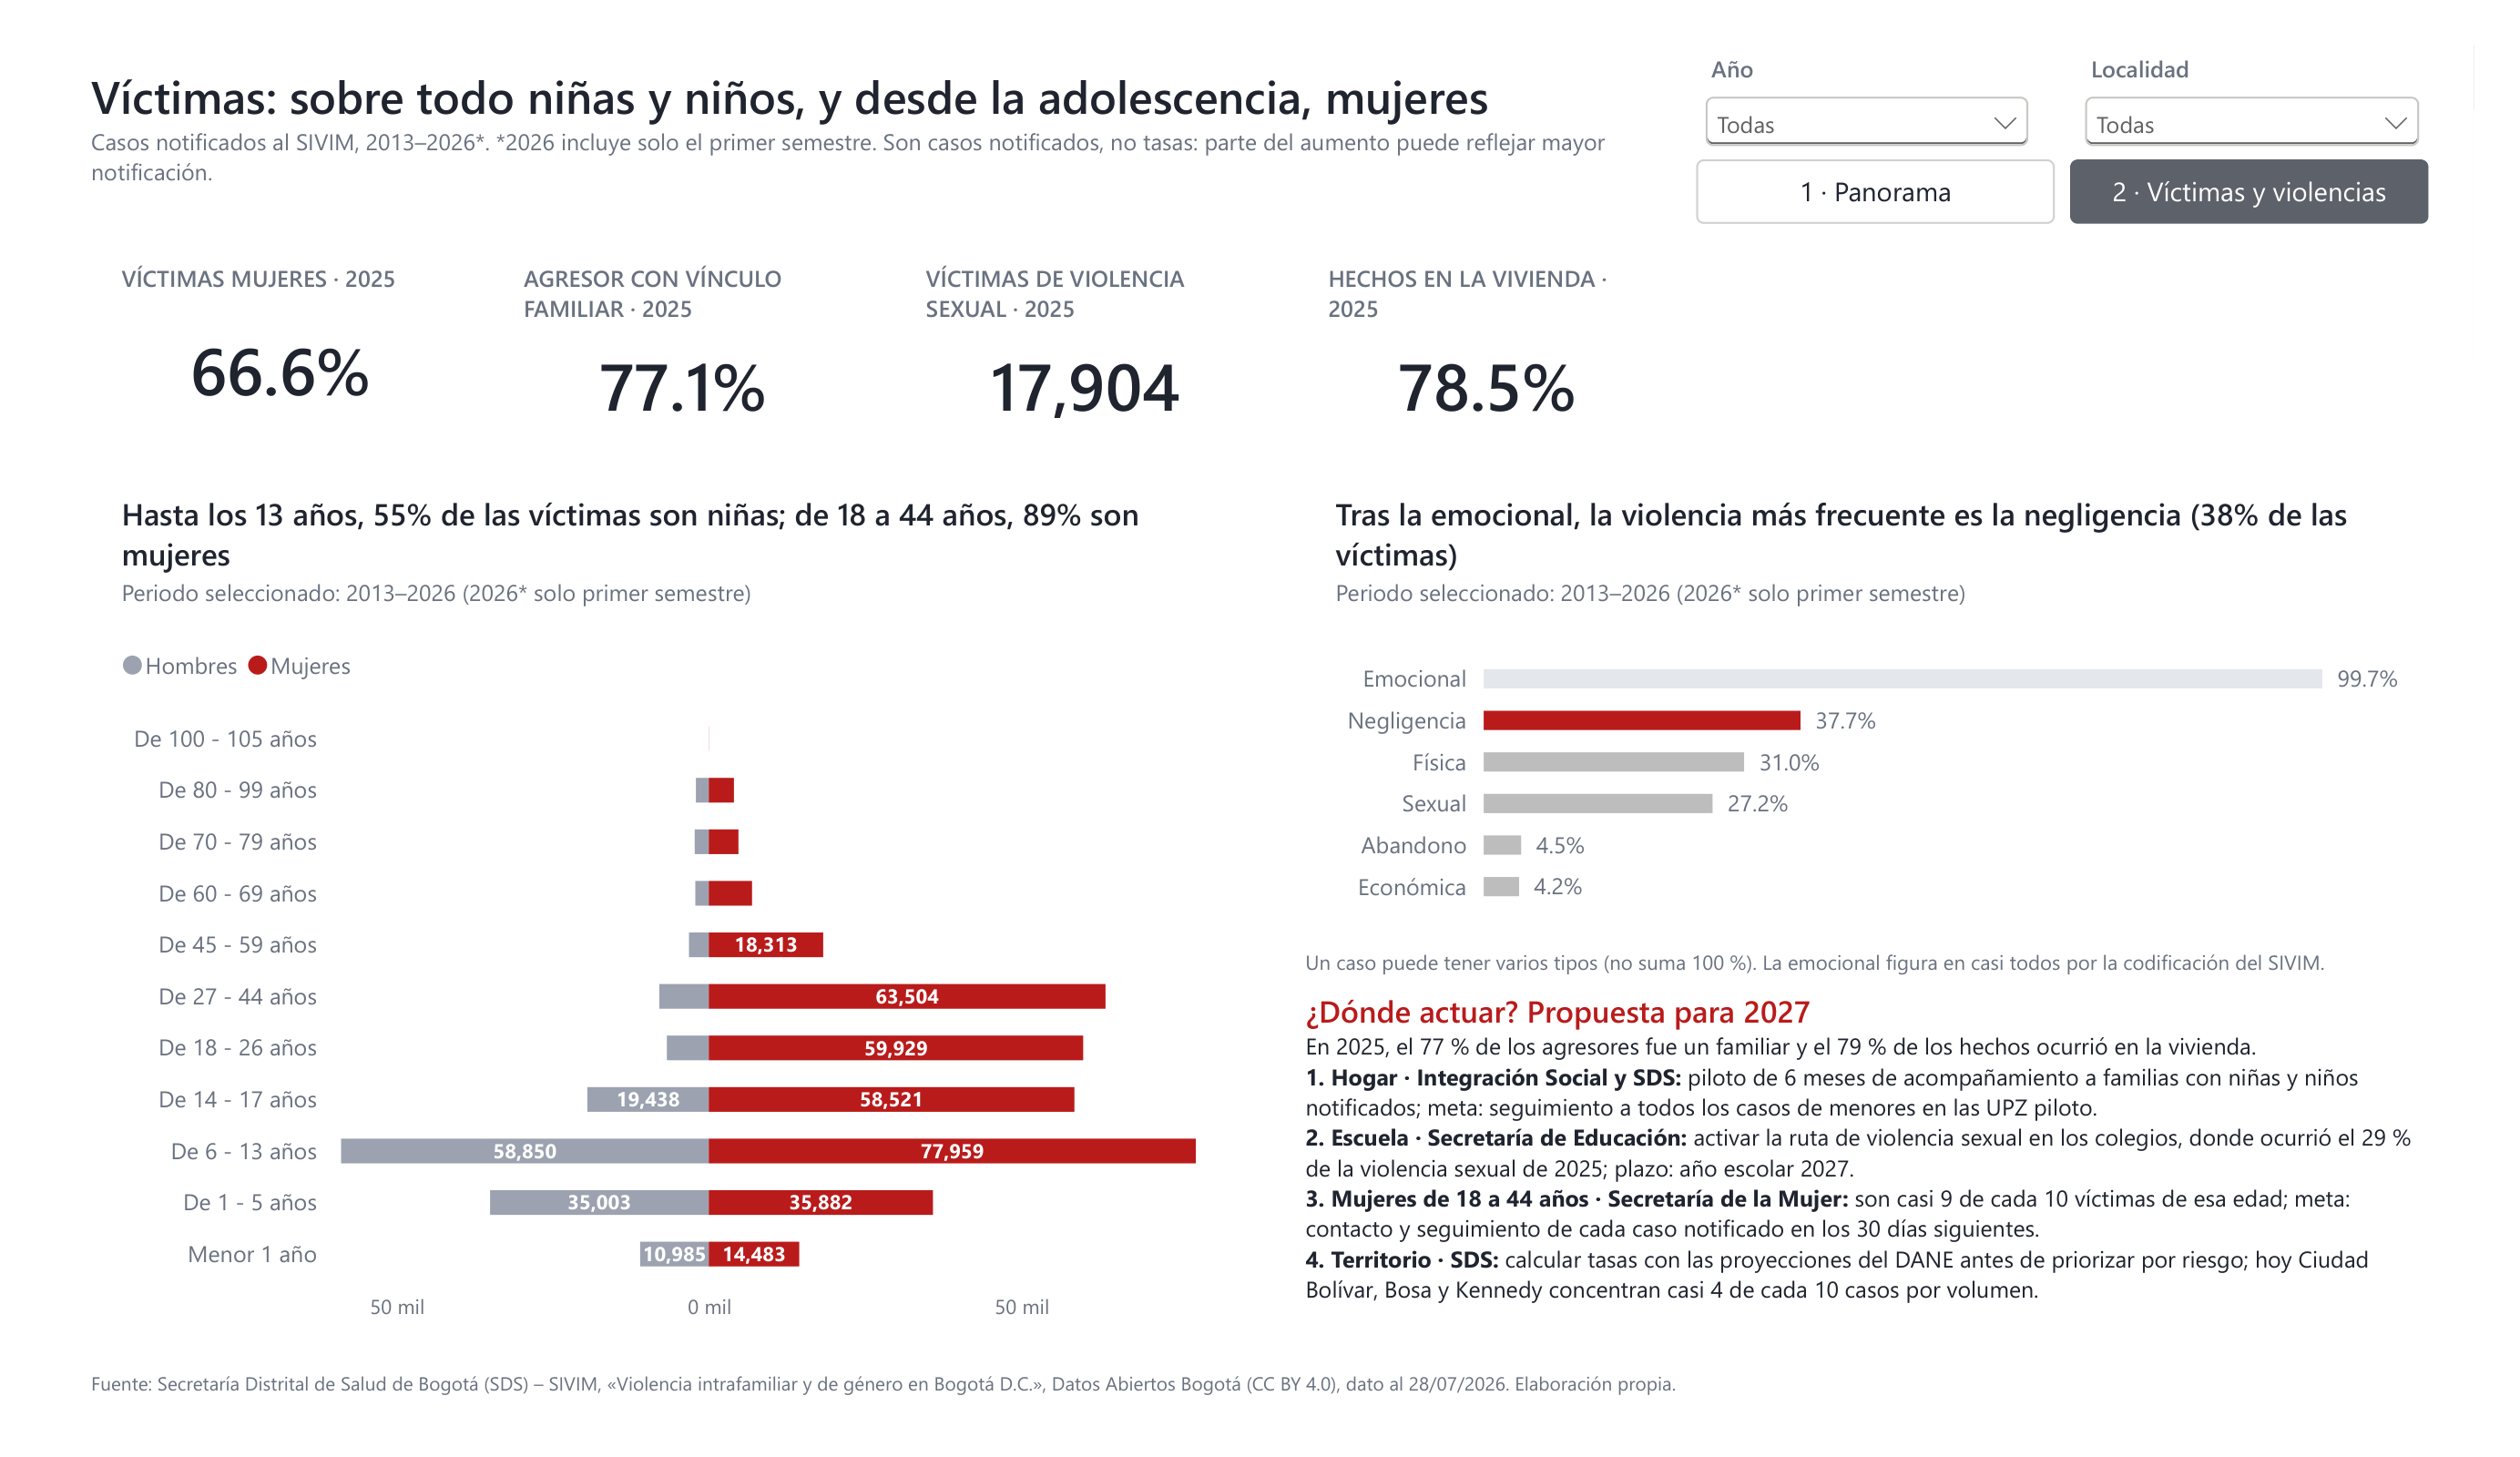

What the dashboard file says about the page in this screenshot:
{"tool":"powerbi","page":{"name":"2 · Víctimas y violencias","canvas":[1280,720],"ordinal":1},"visuals":[{"type":"textbox","box":[24,10,830,84],"z":0},{"type":"slicer","fields":{"Values":["Dim_Anio.Año_Etiqueta"]},"box":[870,4,180,52],"z":1},{"type":"slicer","fields":{"Values":["Dim_Geografia.Localidad"]},"box":[1070,4,186,52],"z":2},{"type":"pageNavigator","box":[870,60,386,34],"z":3},{"type":"card","fields":{"Values":["_Medidas.% Mujeres Año Ref"]},"box":[24,100,200,112],"z":10},{"type":"card","fields":{"Values":["_Medidas.% Agresor Familiar Año Ref"]},"box":[236,100,200,112],"z":11},{"type":"card","fields":{"Values":["_Medidas.Violencia Sexual Año Ref"]},"box":[448,100,200,112],"z":12},{"type":"card","fields":{"Values":["_Medidas.% Vivienda Año Ref"]},"box":[660,100,200,112],"z":13},{"type":"barChart","fields":{"Category":["Dim_Edad.Grupo_Edad"],"Y":["_Medidas.Casos Hombres Pirámide","_Medidas.Casos Mujeres"]},"box":[24,222,620,472],"z":20},{"type":"clusteredBarChart","fields":{"Category":["Dim_TipoViolencia.Tipo_Violencia"],"Y":["_Medidas.% de Casos con este Tipo"]},"box":[664,222,592,252],"z":21},{"type":"textbox","box":[664,474,592,22],"z":22},{"type":"textbox","box":[664,498,592,196],"z":23},{"type":"textbox","box":[24,696,1232,22],"z":90}]}

Visuals, with their boxes on the page's 1280x720 design canvas (x1, y1, x2, y2). These are canvas units, not pixel positions in the 2520x1457 screenshot, which may show the page scaled, cropped or inside an application window:
textbox: <box>24,10,854,94</box>
slicer - Dim_Anio.Año_Etiqueta: <box>870,4,1050,56</box>
slicer - Dim_Geografia.Localidad: <box>1070,4,1256,56</box>
pageNavigator: <box>870,60,1256,94</box>
card - _Medidas.% Mujeres Año Ref: <box>24,100,224,212</box>
card - _Medidas.% Agresor Familiar Año Ref: <box>236,100,436,212</box>
card - _Medidas.Violencia Sexual Año Ref: <box>448,100,648,212</box>
card - _Medidas.% Vivienda Año Ref: <box>660,100,860,212</box>
barChart - Dim_Edad.Grupo_Edad x _Medidas.Casos Hombres Pirámide: <box>24,222,644,694</box>
clusteredBarChart - Dim_TipoViolencia.Tipo_Violencia x _Medidas.% de Casos con este Tipo: <box>664,222,1256,474</box>
textbox: <box>664,474,1256,496</box>
textbox: <box>664,498,1256,694</box>
textbox: <box>24,696,1256,718</box>
